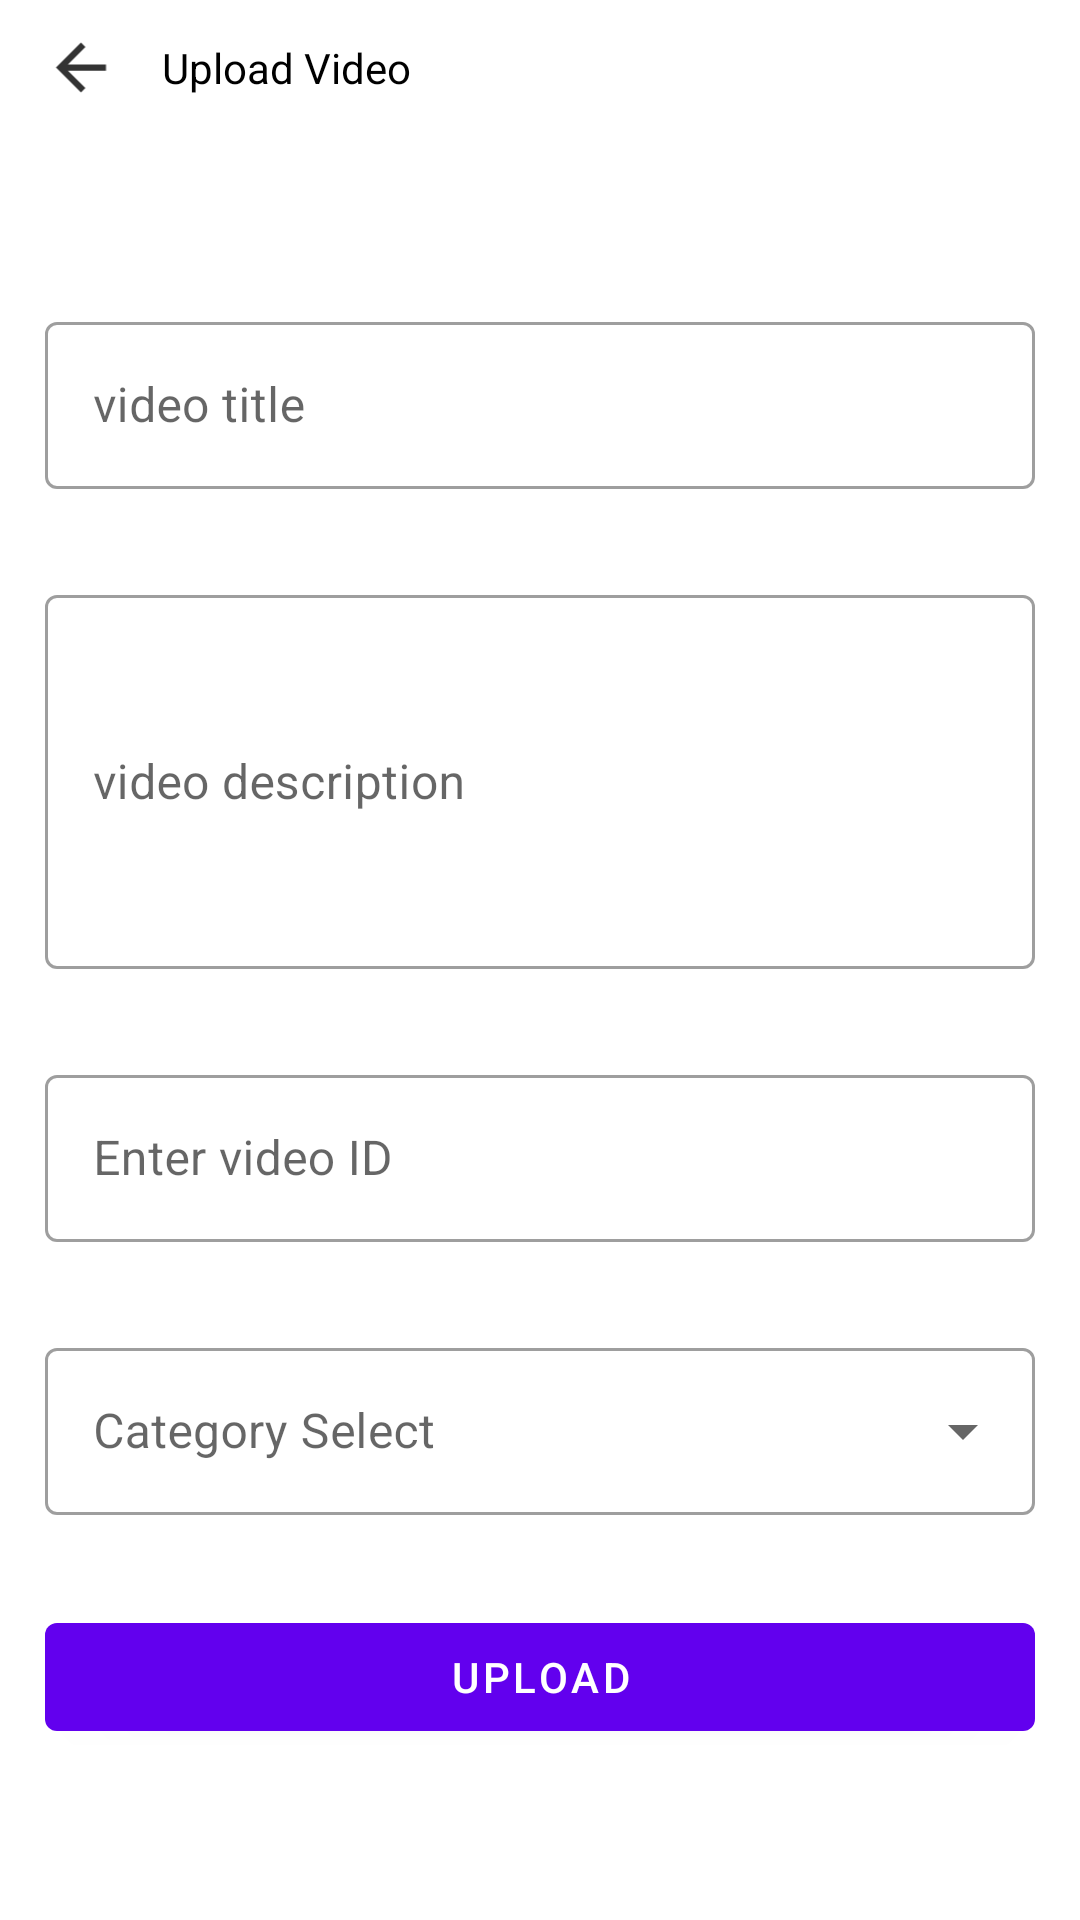

Locate icon controls on the screen. Image size 1080px x 1920px, boxes as bbox=(x1, y1, x2, y2).
back: bbox=(55, 42, 107, 93)
